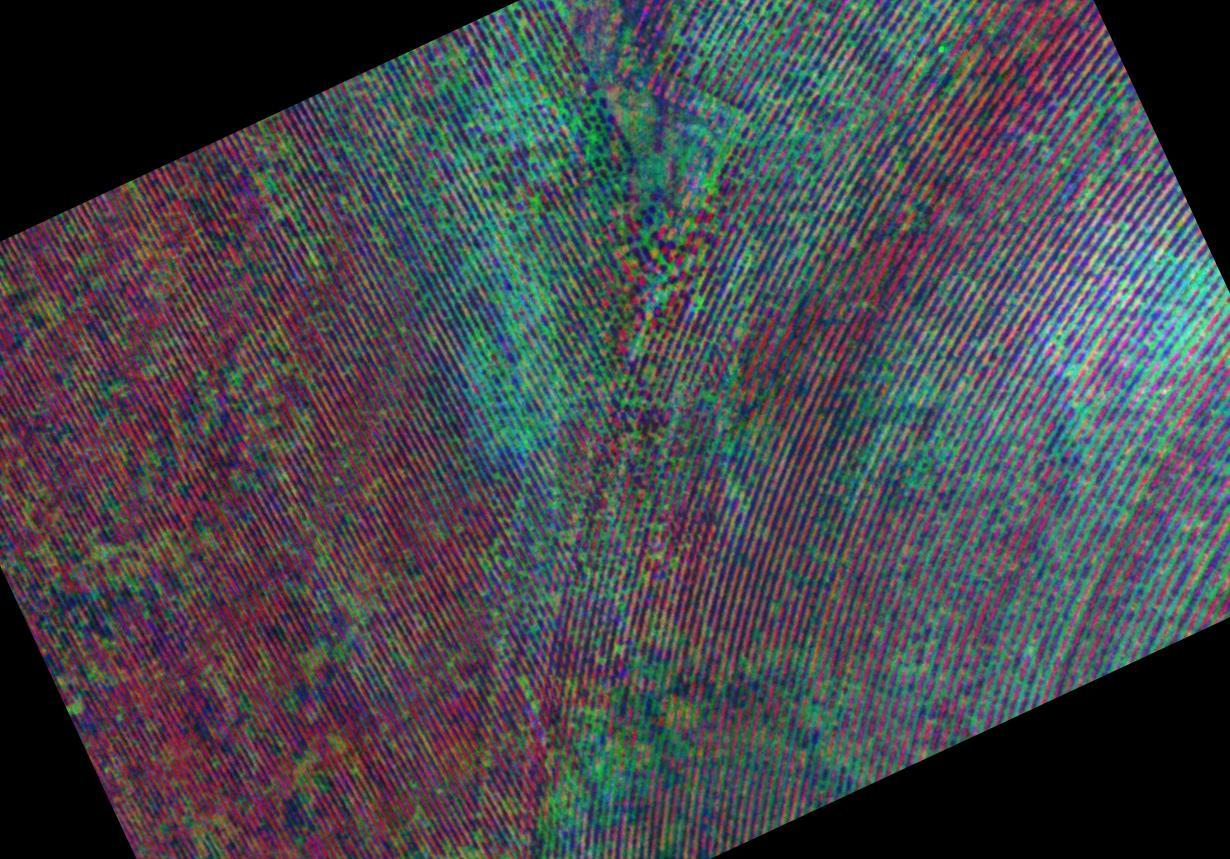dc: (428, 100, 531, 217), (471, 333, 567, 443), (868, 345, 965, 452), (546, 730, 645, 826), (643, 85, 730, 178), (1116, 260, 1213, 335)
